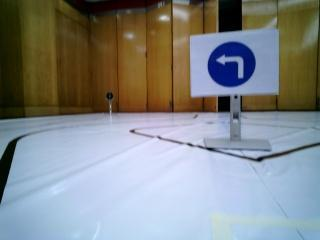left: (196, 37, 274, 94)
